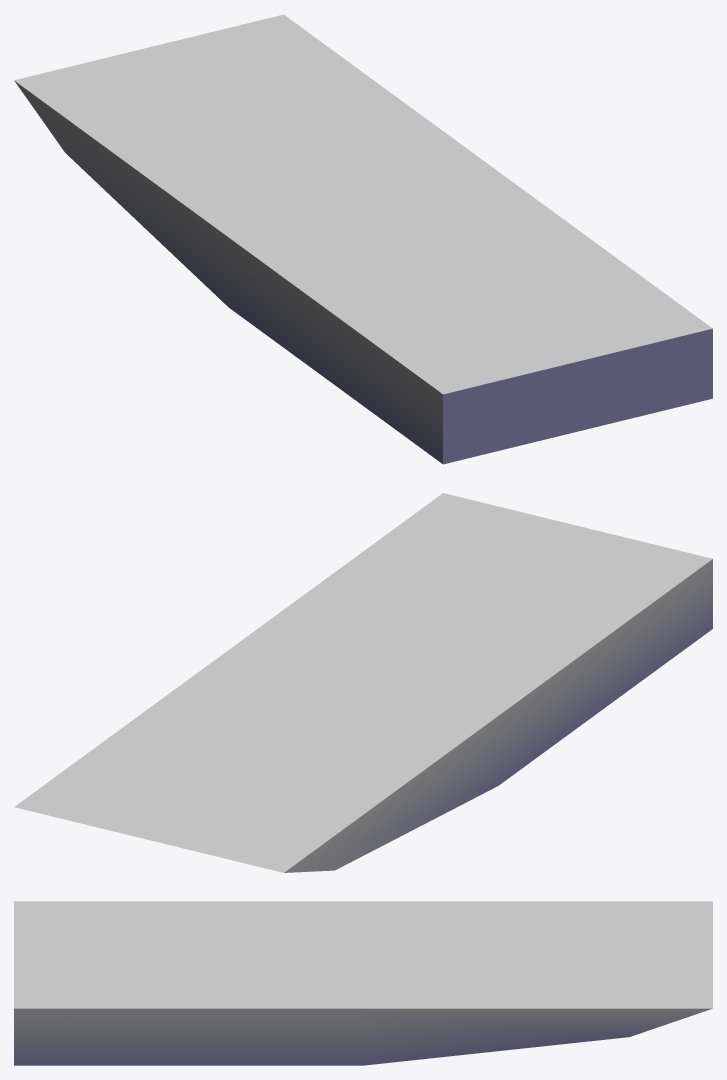
Rendered from pen_key.obj.
3 views of the same model, one above another, from view 1: azimuth 30°, elevation 25°; view 2: azimuth 150°, elevation 25°; view 3: azimuth 270°, elevation 25° (orthographic). The views are drawn at different scales.
Parts seen in each view (by area): view 1: Cube.001; view 2: Cube.001; view 3: Cube.001.
Part boxes in pixels (x1,y1,x2,y2): Cube.001: (14,14,712,464); Cube.001: (14,493,712,872); Cube.001: (14,901,712,1065).
Bounding box in the file's own units: 1.03 × 0.2548 × 2.83.
